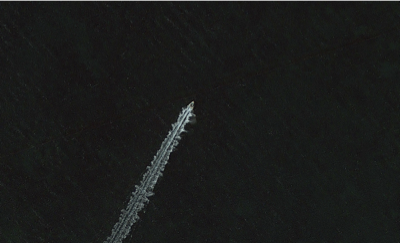boat: (187, 99, 196, 110)
